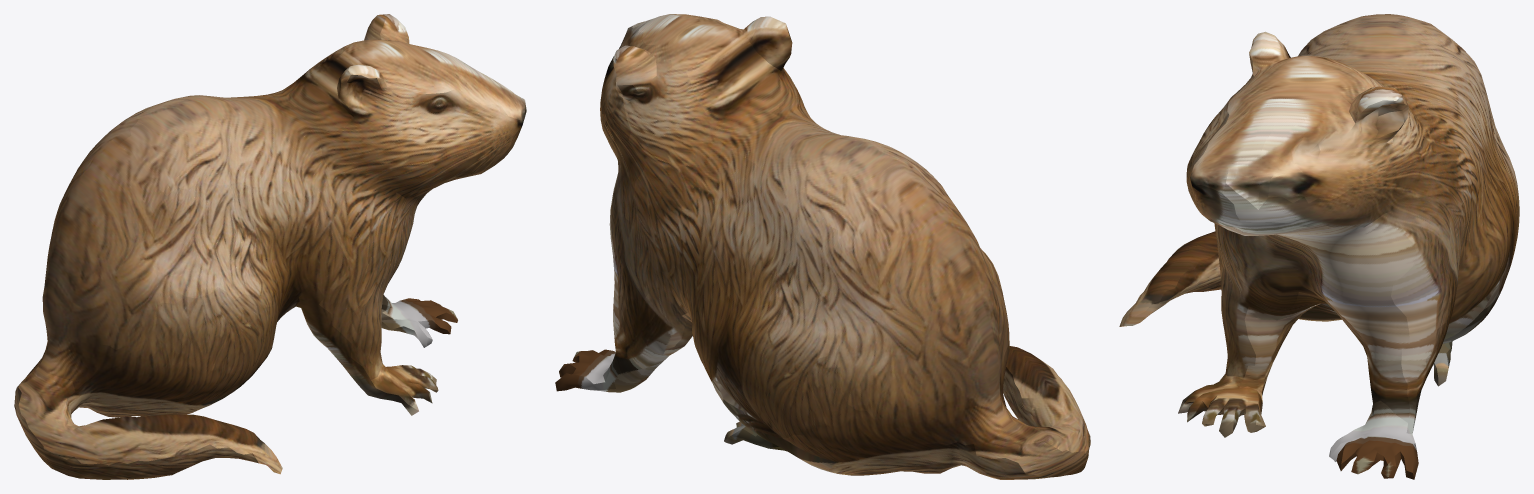
File: beaver.glb
3 views of the same model, side by side, from view 1: azimuth 30°, elevation 25°; view 2: azimuth 150°, elevation 25°; view 3: azimuth 270°, elevation 25° (orthographic). The views are drawn at different scales.
Parts seen in each view (by area): view 1: beaver; view 2: beaver; view 3: beaver.
Part boxes in pixels (x1,y1,x2,y2): beaver: (14, 14, 526, 479); beaver: (555, 14, 1090, 479); beaver: (1119, 14, 1519, 479).
Bounding box in the file's own units: 0.5527 × 0.4 × 0.3727.
1 material, 1 textured.
